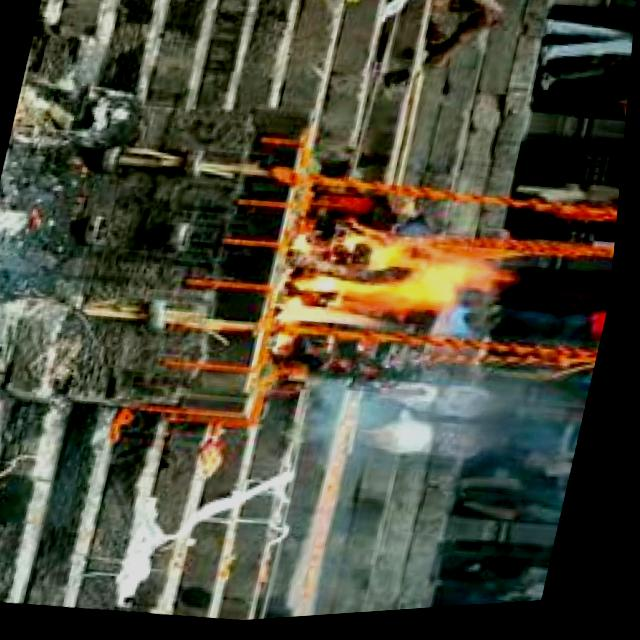helmet: (282, 216, 539, 379)
